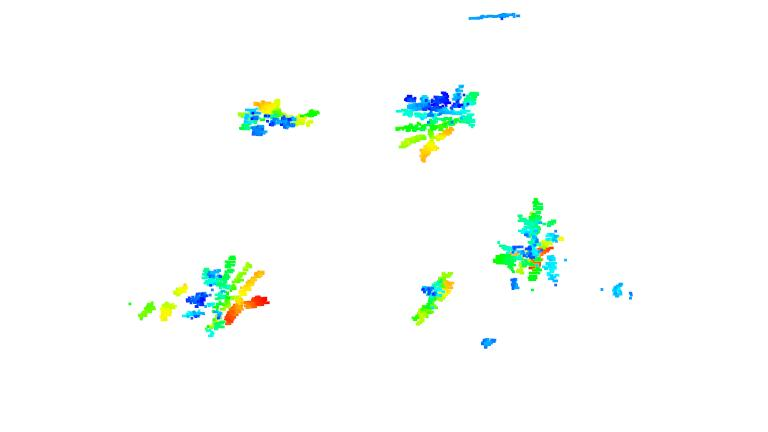chickpea: (138, 252, 271, 337), (493, 198, 568, 294), (393, 82, 482, 161), (234, 94, 325, 140), (411, 270, 456, 327)
